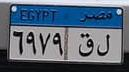6: (13, 29, 24, 55)
7: (38, 30, 51, 56)
9: (52, 30, 66, 57), (26, 31, 38, 56)
laam: (95, 32, 112, 59)
qaaf: (77, 31, 94, 57)
